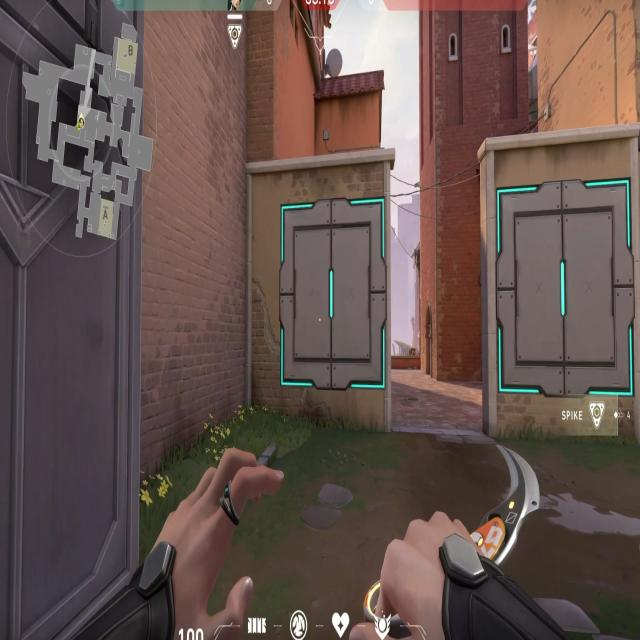Mid_Wall: (496, 176, 636, 400), (278, 196, 385, 397)
